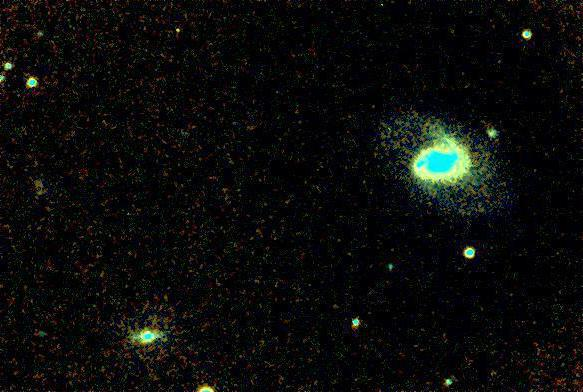star: (164, 13, 194, 43)
